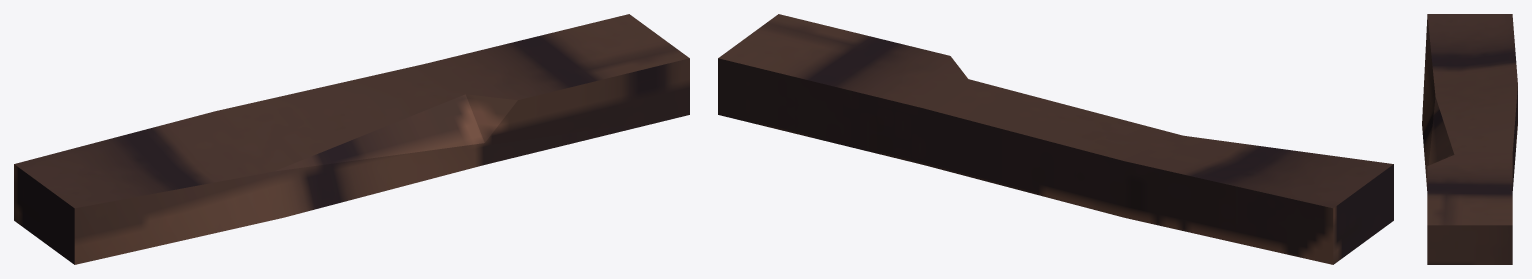
File: bridge_01.FBX
3 renders of one model, left to right at view 1: azimuth 30°, elevation 25°; view 2: azimuth 150°, elevation 25°; view 3: azimuth 270°, elevation 25°, orthographic. The views are drawn at different scales.
Parts seen in each view (by area): view 1: bridge_01; view 2: bridge_01; view 3: bridge_01.
Part boxes in pixels (left/top/right/bottom): bridge_01: left=14, top=14, right=689, bottom=264; bridge_01: left=718, top=14, right=1393, bottom=264; bridge_01: left=1422, top=14, right=1517, bottom=264.
Size of the model in its own units: 3.71 by 0.3258 by 0.7119.
